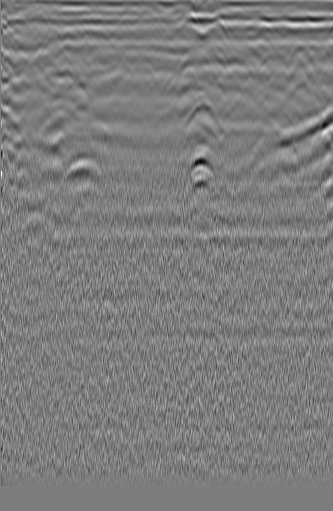상수: (284, 45, 318, 75)
오수: (23, 43, 57, 72)
우수: (129, 47, 162, 92)
